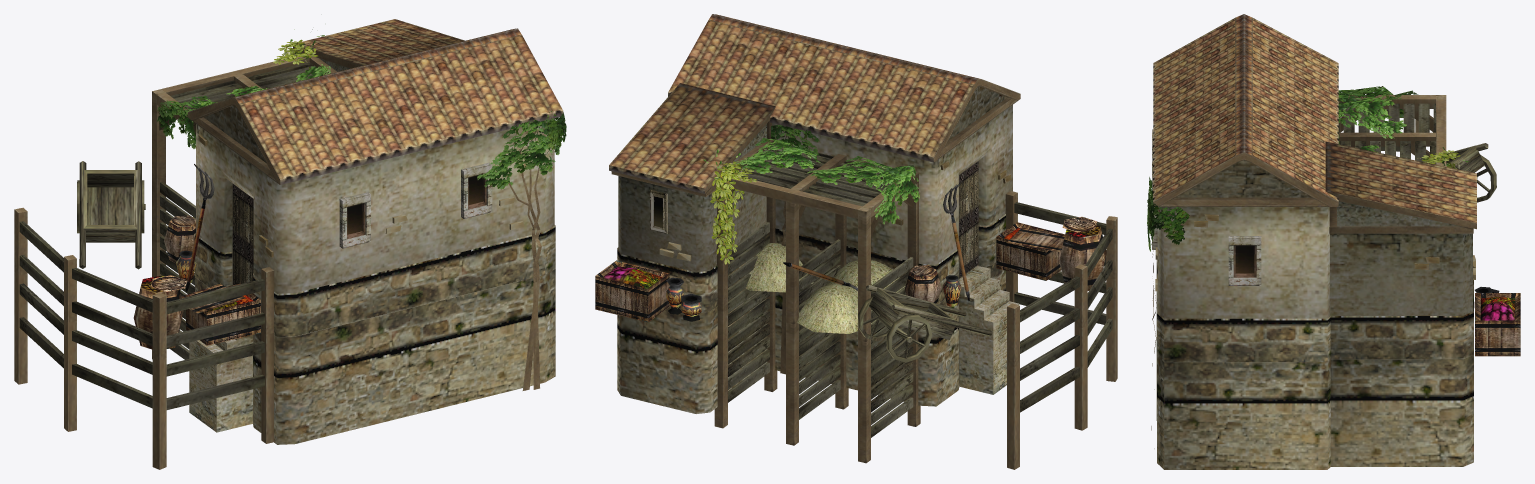
The model's file is athen_farmstead.glb.
The picture shows the model from 3 angles, left to right: view 1: azimuth 30°, elevation 25°; view 2: azimuth 150°, elevation 25°; view 3: azimuth 270°, elevation 25°; orthographic projection. The views are drawn at different scales.
Visible parts, largest first — view 1: athen_farmstead_part0, athen_farmstead_part2, athen_farmstead_part3; view 2: athen_farmstead_part0, athen_farmstead_part2, athen_farmstead_part3, athen_farmstead_part1; view 3: athen_farmstead_part0, athen_farmstead_part2, athen_farmstead_part3.
Part boxes in pixels (box(x1,y1,x2,y2)): athen_farmstead_part0: box(14, 19, 563, 469); athen_farmstead_part2: box(133, 162, 492, 349); athen_farmstead_part3: box(157, 29, 566, 189); athen_farmstead_part0: box(609, 14, 1117, 469); athen_farmstead_part2: box(595, 161, 1106, 322); athen_farmstead_part3: box(703, 125, 919, 264); athen_farmstead_part1: box(745, 243, 905, 333); athen_farmstead_part0: box(1151, 14, 1496, 469); athen_farmstead_part2: box(1152, 129, 1520, 356); athen_farmstead_part3: box(1147, 86, 1484, 251).
Bounding box in the file's own units: 3.2 × 2.42 × 2.41.
Materials: 4 (4 with a texture image).
